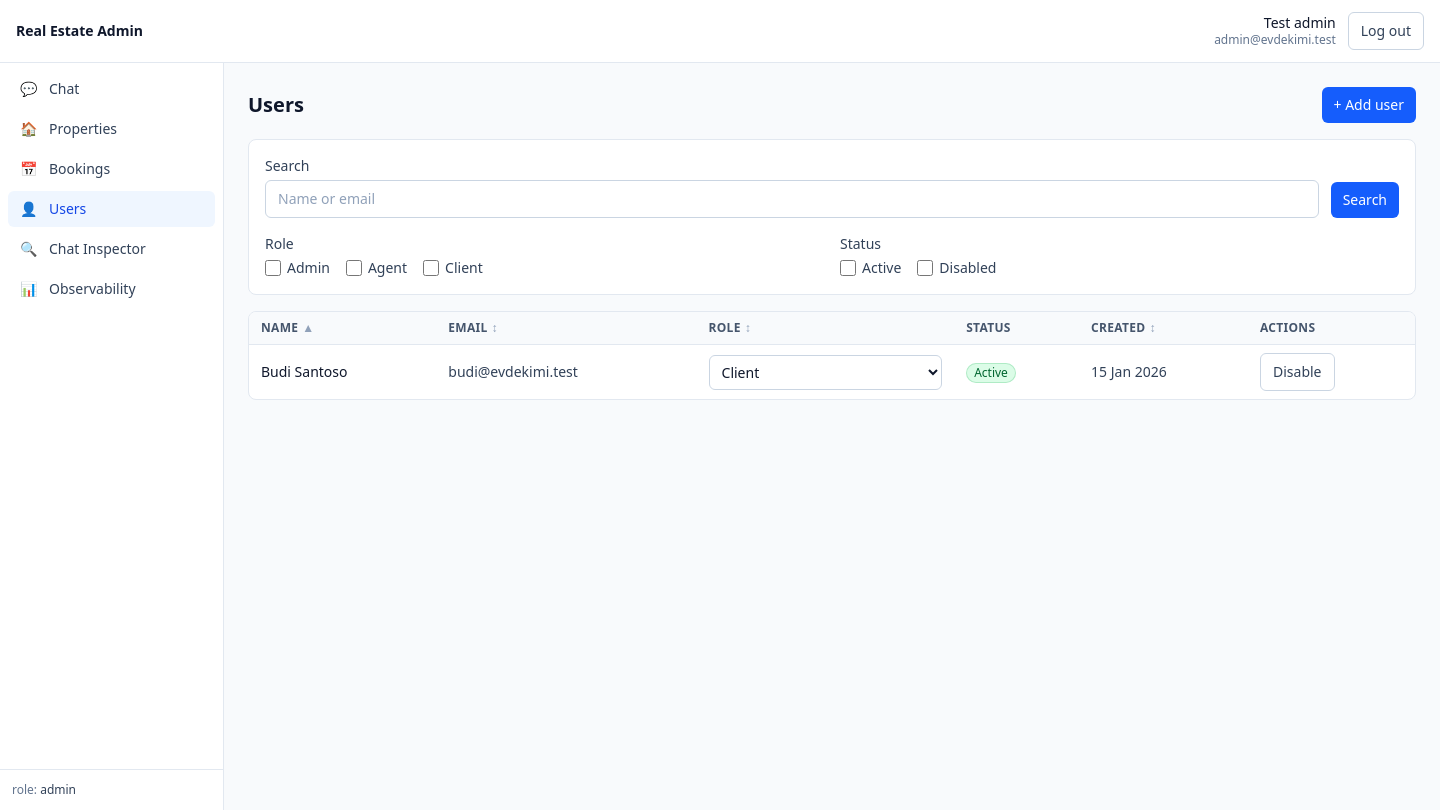
UsersPage role change › confirms the change, naming both ends of it, before sending anything
The width and height of the screenshot is (1440, 810).
Expected: the text "Budi Santoso" is shown, [249,344,436,399]
Select "Agent" in the dropdown named "Role for Budi Santoso": (825, 372) [708,354,942,390]
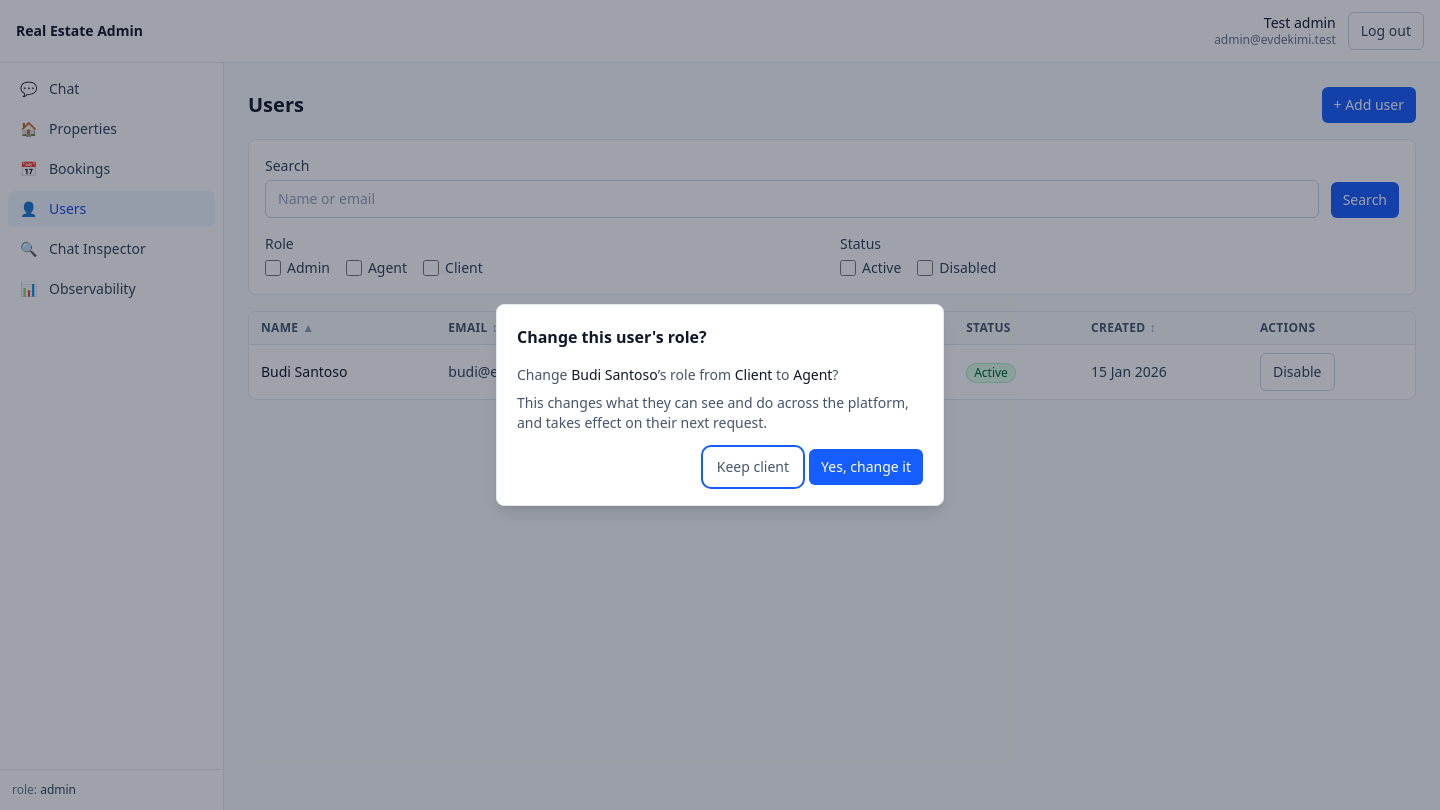
Expected: the text "Budi Santoso" is shown, [571,365,658,384]
Expected: the text "Client" is shown, [735,365,772,384]
Expected: the text "Agent" is shown, [793,365,832,384]
Click the button "Yes, change it": (866, 467) [809,449,923,485]
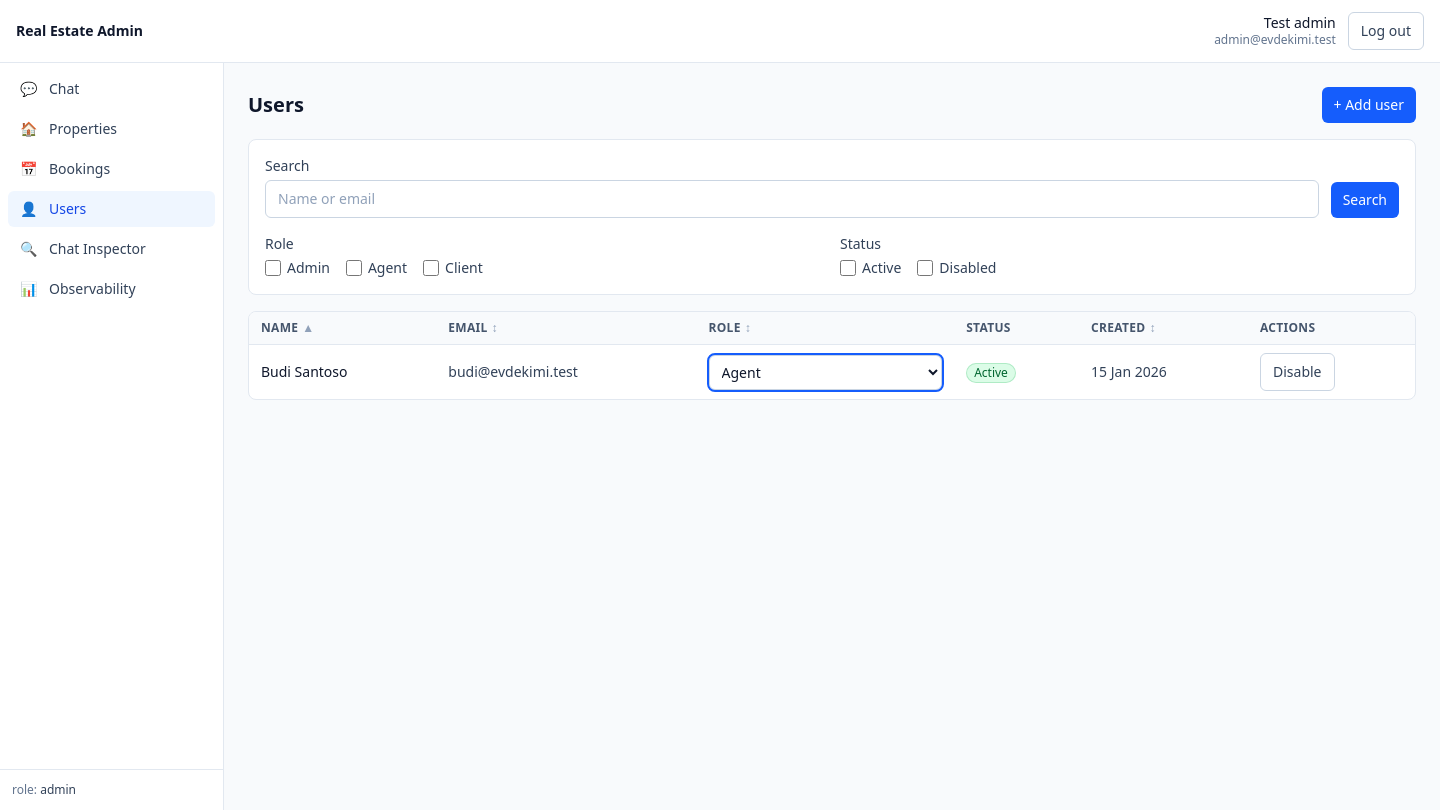
Expected: the dialog is gone
